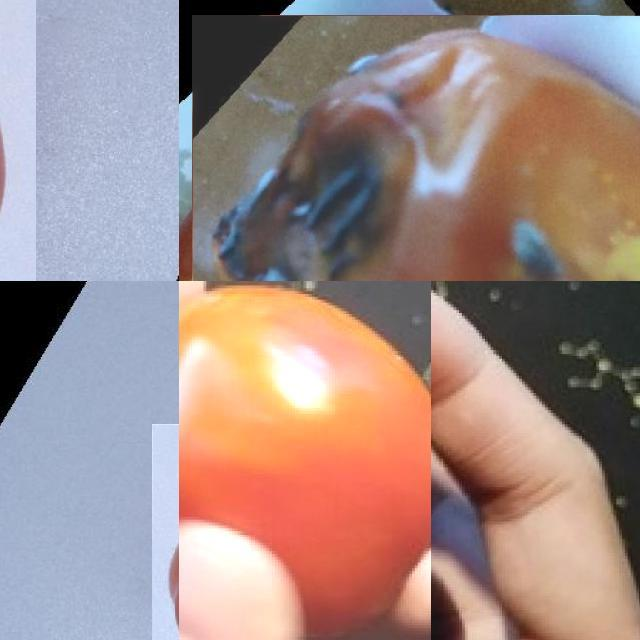Fresh Tomato: (179, 281, 431, 640), (0, 0, 36, 281)
Rotten Tomato: (191, 15, 640, 281)
